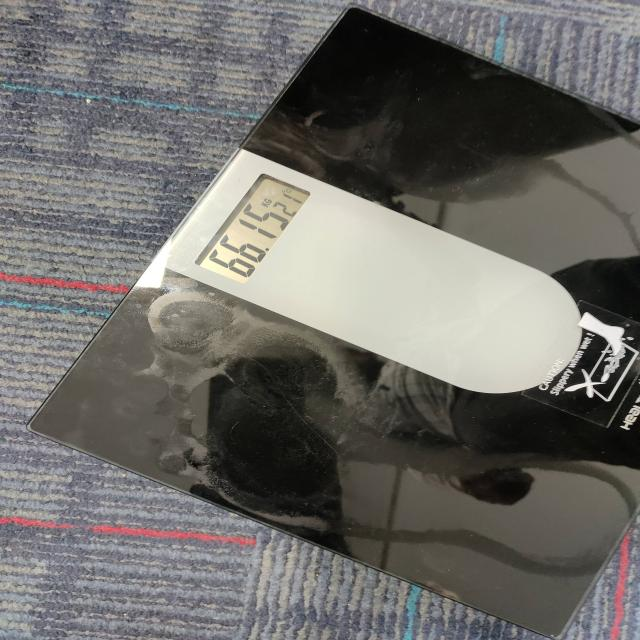ws: (29, 6, 640, 640)
